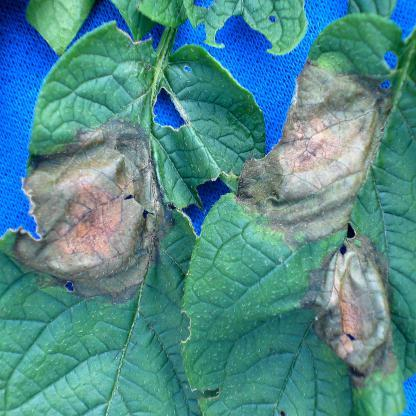Potato leaf: (2, 21, 282, 416), (180, 13, 416, 411)
